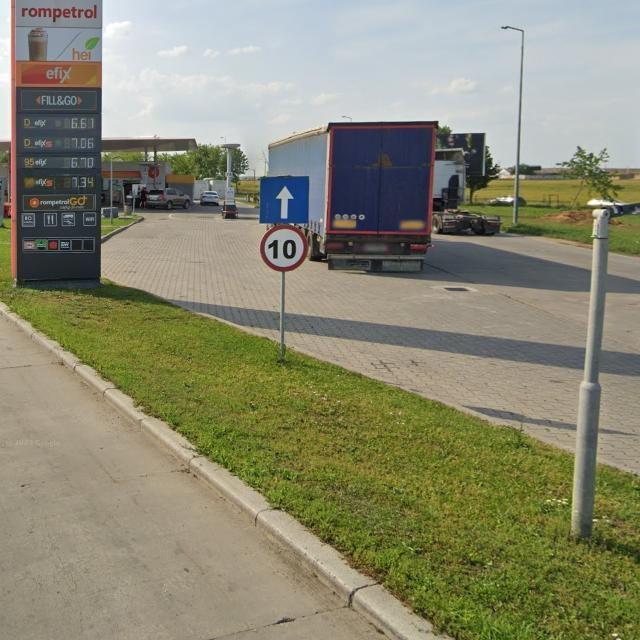forb_speed_over_10: (260, 224, 309, 273)
